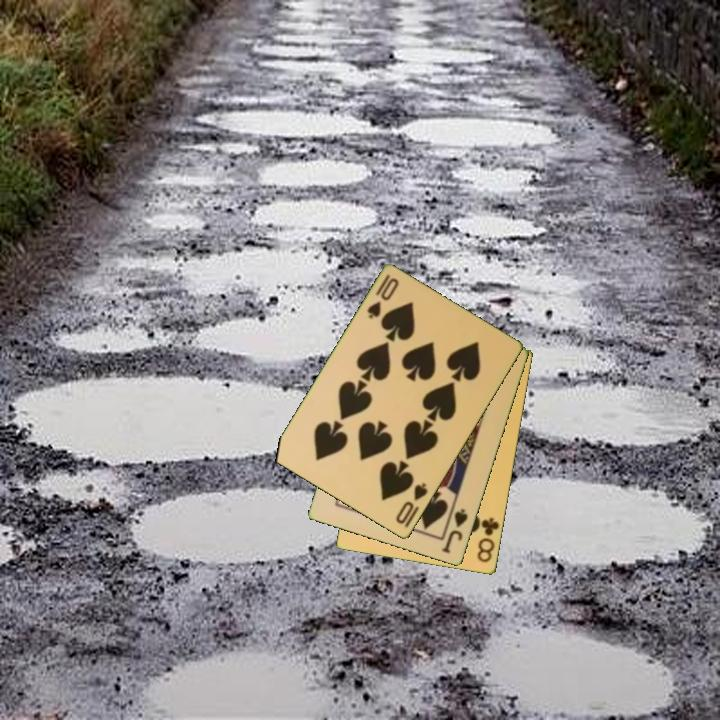10s: (364, 271, 402, 322), (392, 479, 431, 527)
8c: (474, 514, 502, 566)
Js: (438, 505, 471, 556)
